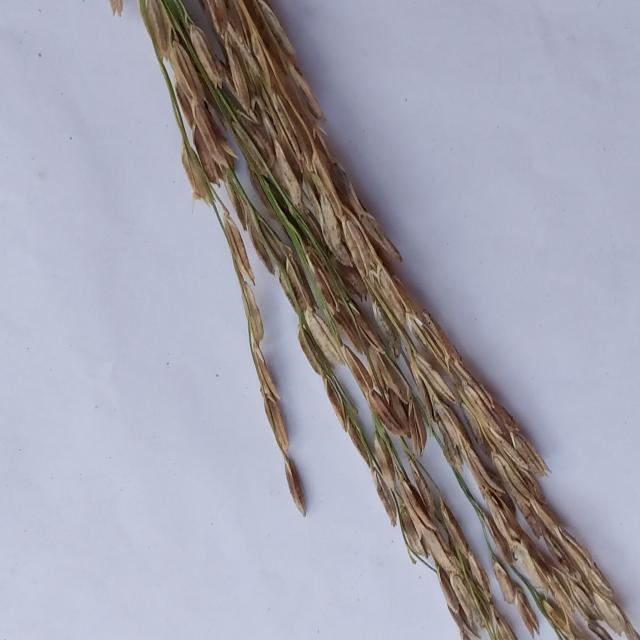Neck_Blast: (205, 2, 639, 640), (255, 237, 513, 640), (128, 0, 306, 507)
